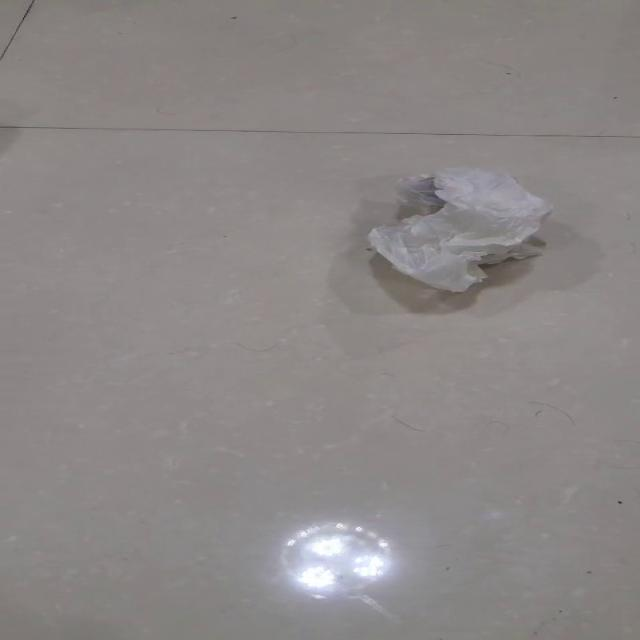plastic: (366, 166, 552, 293)
